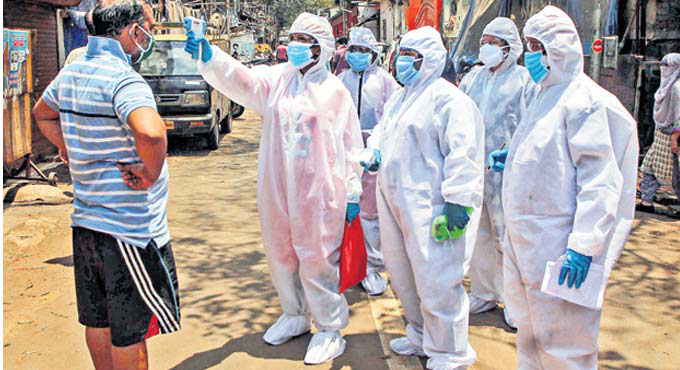Coverall: (501, 10, 628, 370), (212, 12, 357, 322), (374, 29, 485, 344), (458, 16, 527, 298)
Gloves: (558, 246, 592, 292), (179, 30, 217, 63), (441, 195, 468, 233)
with_mask: (283, 36, 320, 73), (523, 41, 550, 84), (391, 47, 417, 88), (342, 45, 375, 74), (477, 43, 508, 73)
